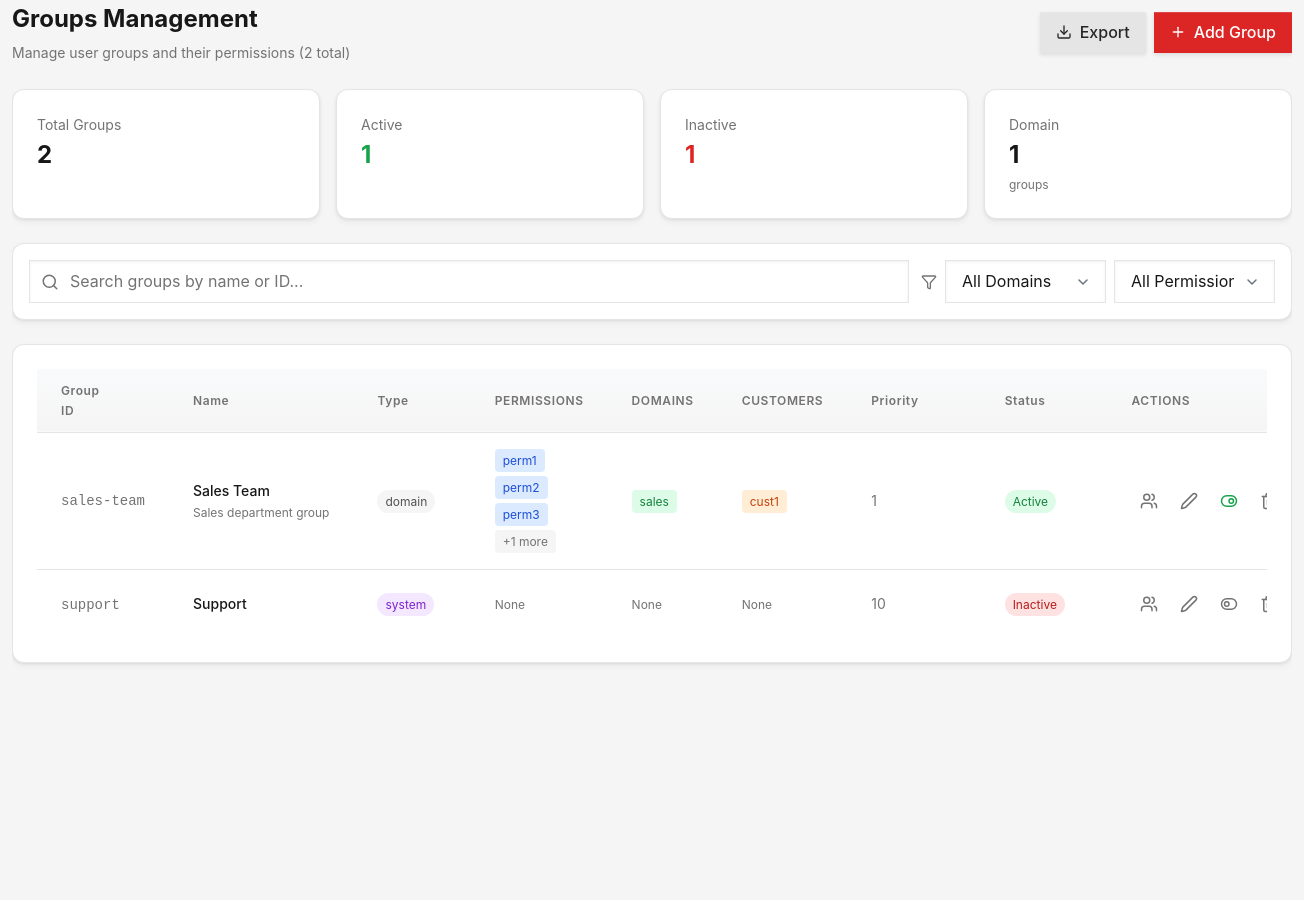
Scenario: GroupsManagement › handles toggle status (deactivate)
Expected: the text "Sales Team" is shown, [193,482,270,499]
What coordinates should you click on to do the following:
click the button titled "Deactivate"
I would click on:
 (1229, 501)
Its box is [1211,483,1247,519].
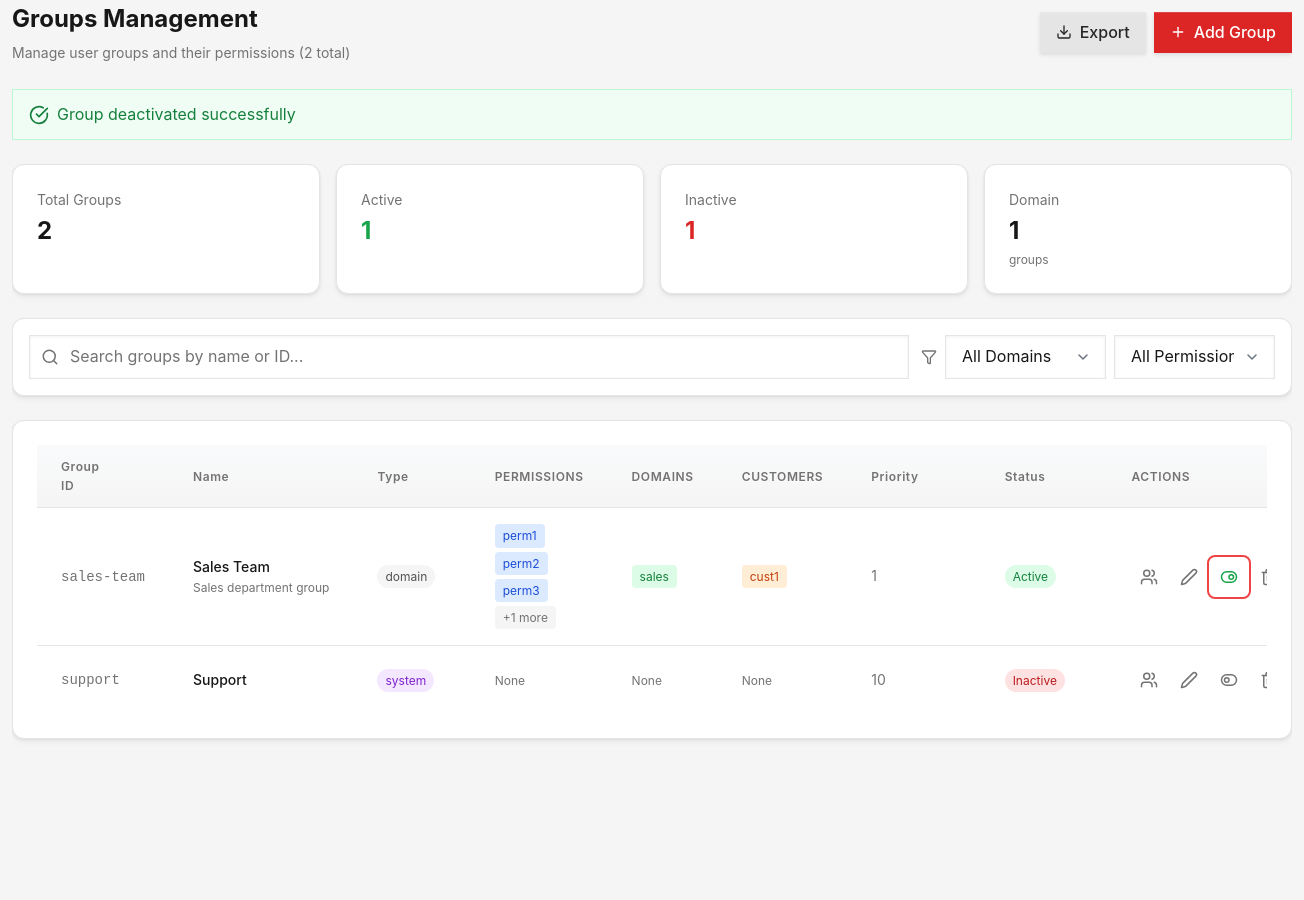
Now the text "Group deactivated successfully" is shown, box [12,89,1292,140]
